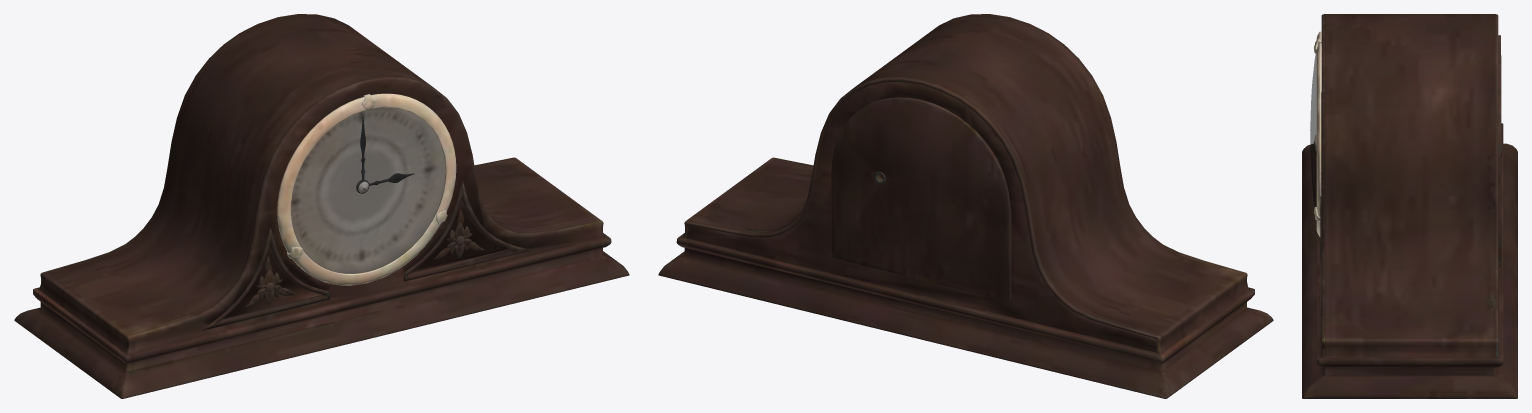
File: mantel_clock_01.glb
3 views of the same model, side by side, from view 1: azimuth 30°, elevation 25°; view 2: azimuth 150°, elevation 25°; view 3: azimuth 270°, elevation 25° (orthographic).
Visible parts, largest first — view 1: mantel_clock_01, mantel_clock_01_glass; view 2: mantel_clock_01; view 3: mantel_clock_01, mantel_clock_01_glass.
Part boxes in pixels (<box>): mantel_clock_01: <box>14,14,629,398</box>; mantel_clock_01_glass: <box>291,107,445,273</box>; mantel_clock_01: <box>658,14,1273,398</box>; mantel_clock_01: <box>1302,14,1517,398</box>; mantel_clock_01_glass: <box>1310,53,1316,206</box>.
Bounding box in the file's own units: 0.3423 × 0.1605 × 0.126.
2 materials, 2 textured.
